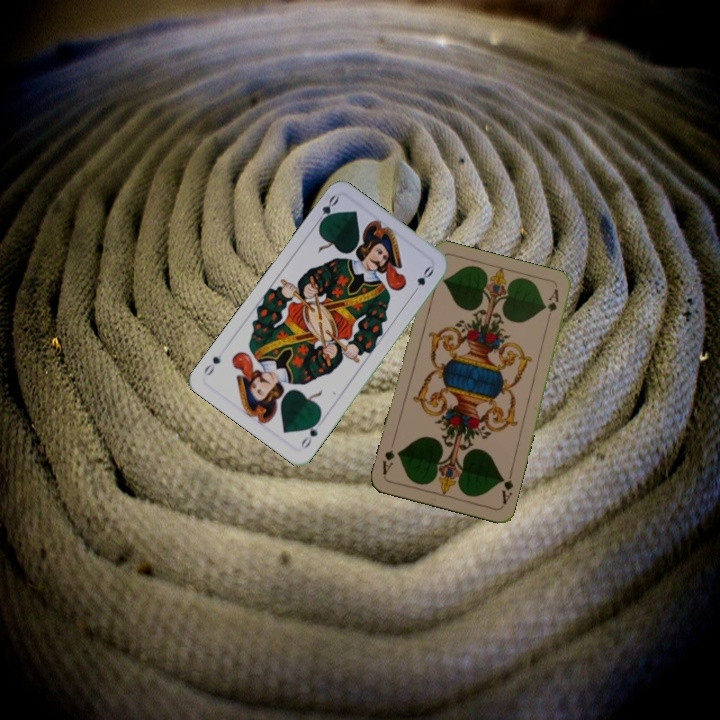GA: (497, 468, 516, 507)
GO: (311, 191, 341, 229), (296, 414, 323, 451)
